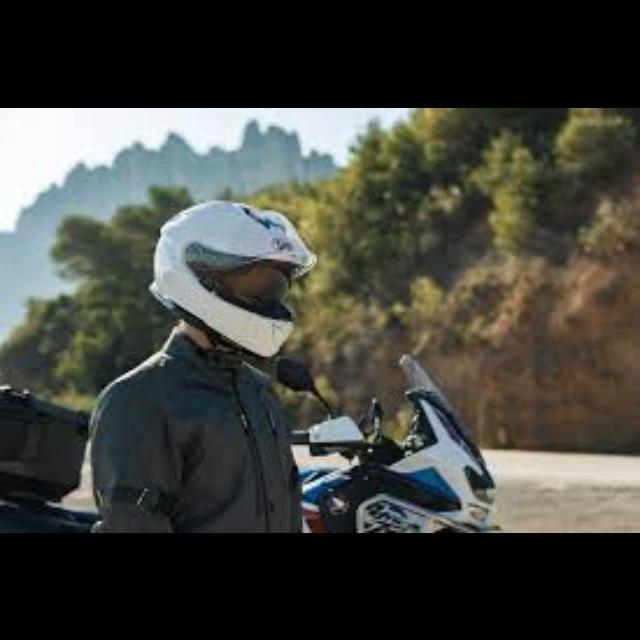motorcycle-helmets: (143, 190, 324, 370)
